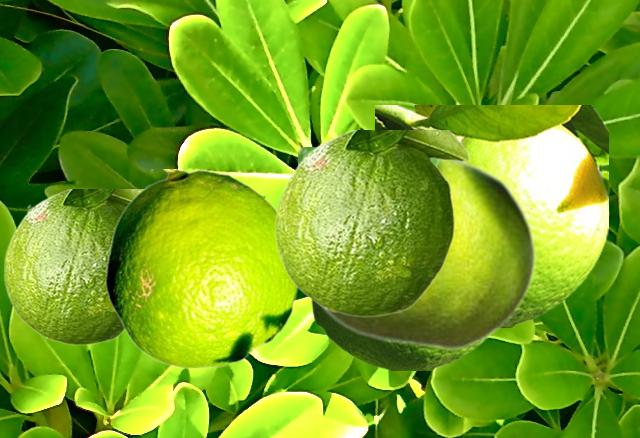dalandan: (375, 105, 607, 326), (298, 147, 536, 350), (105, 169, 298, 368), (274, 130, 469, 316), (3, 189, 141, 344), (308, 299, 492, 369)
